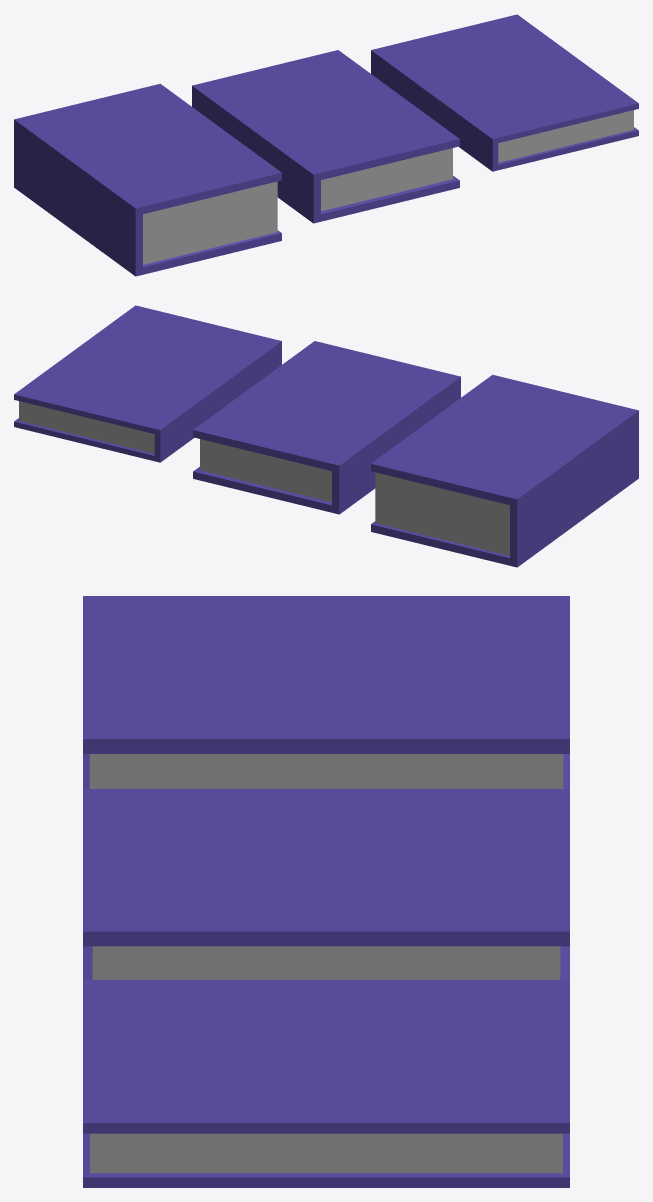
The model's file is Books.fbx.
The picture shows the model from 3 angles, top to bottom: view 1: azimuth 30°, elevation 25°; view 2: azimuth 150°, elevation 25°; view 3: azimuth 270°, elevation 25°; orthographic projection. The views are drawn at different scales.
Visible parts, largest first — view 1: BookLarge, BookMedium, BookSmall; view 2: BookLarge, BookMedium, BookSmall; view 3: BookSmall, BookLarge, BookMedium.
Boxes of the visible parts, x1=… form: BookLarge: x1=14, y1=83, x2=281, y2=276; BookMedium: x1=192, y1=50, x2=459, y2=223; BookSmall: x1=371, y1=14, x2=638, y2=171; BookLarge: x1=371, y1=374, x2=638, y2=567; BookMedium: x1=193, y1=341, x2=460, y2=514; BookSmall: x1=14, y1=305, x2=281, y2=462; BookSmall: x1=83, y1=980, x2=569, y2=1187; BookLarge: x1=83, y1=596, x2=569, y2=788; BookMedium: x1=83, y1=789, x2=569, y2=979.
Bounding box in the file's own units: 0.0344 × 0.00445 × 0.0144.
